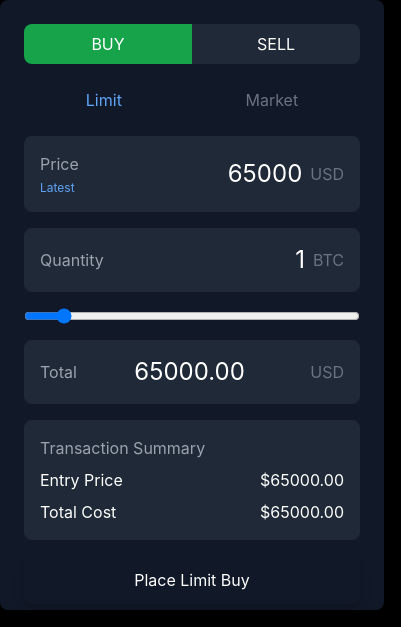
Test case: OrderSection component › formats total correctly when total is large
The width and height of the screenshot is (401, 627).
Step 1. Replace the text in the number field labelled "Price" with "100000000" → (191, 174), box [79,158,302,190]
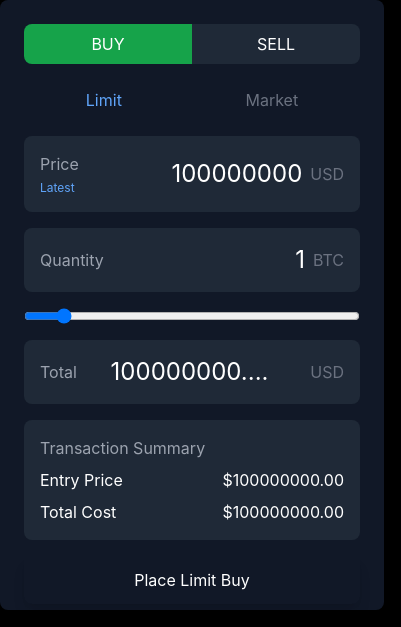
Step 2. Replace the text in the number field labelled "Quantity" with "1000000" → (204, 260), box [104,244,305,276]
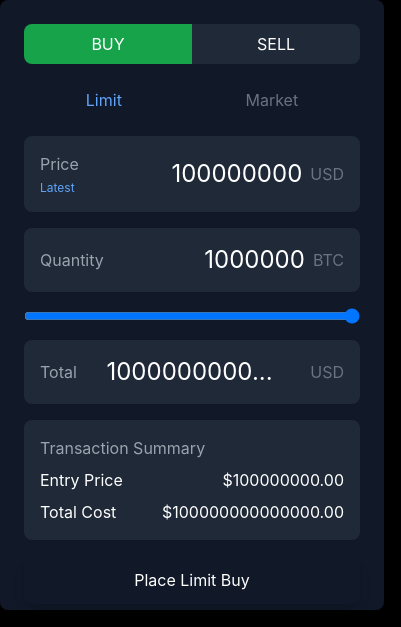
Now the text "1000000000..." is shown, box [106,356,273,388]
